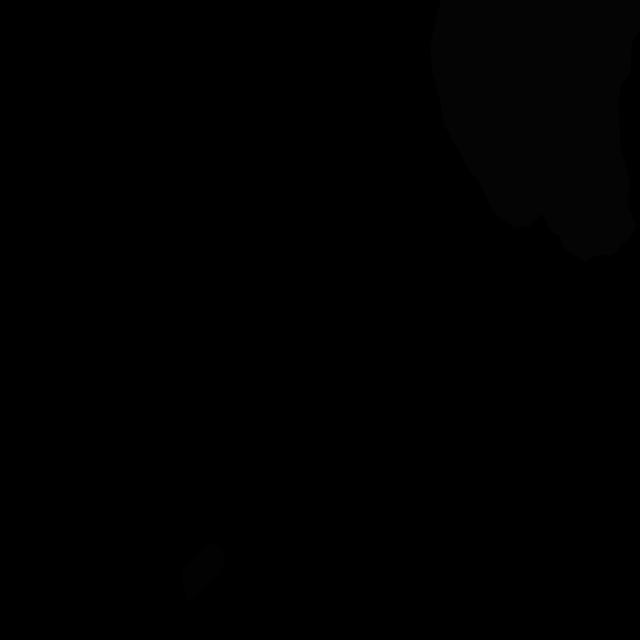cardboard: (180, 543, 225, 602)
soft_plastic: (430, 0, 640, 262)
